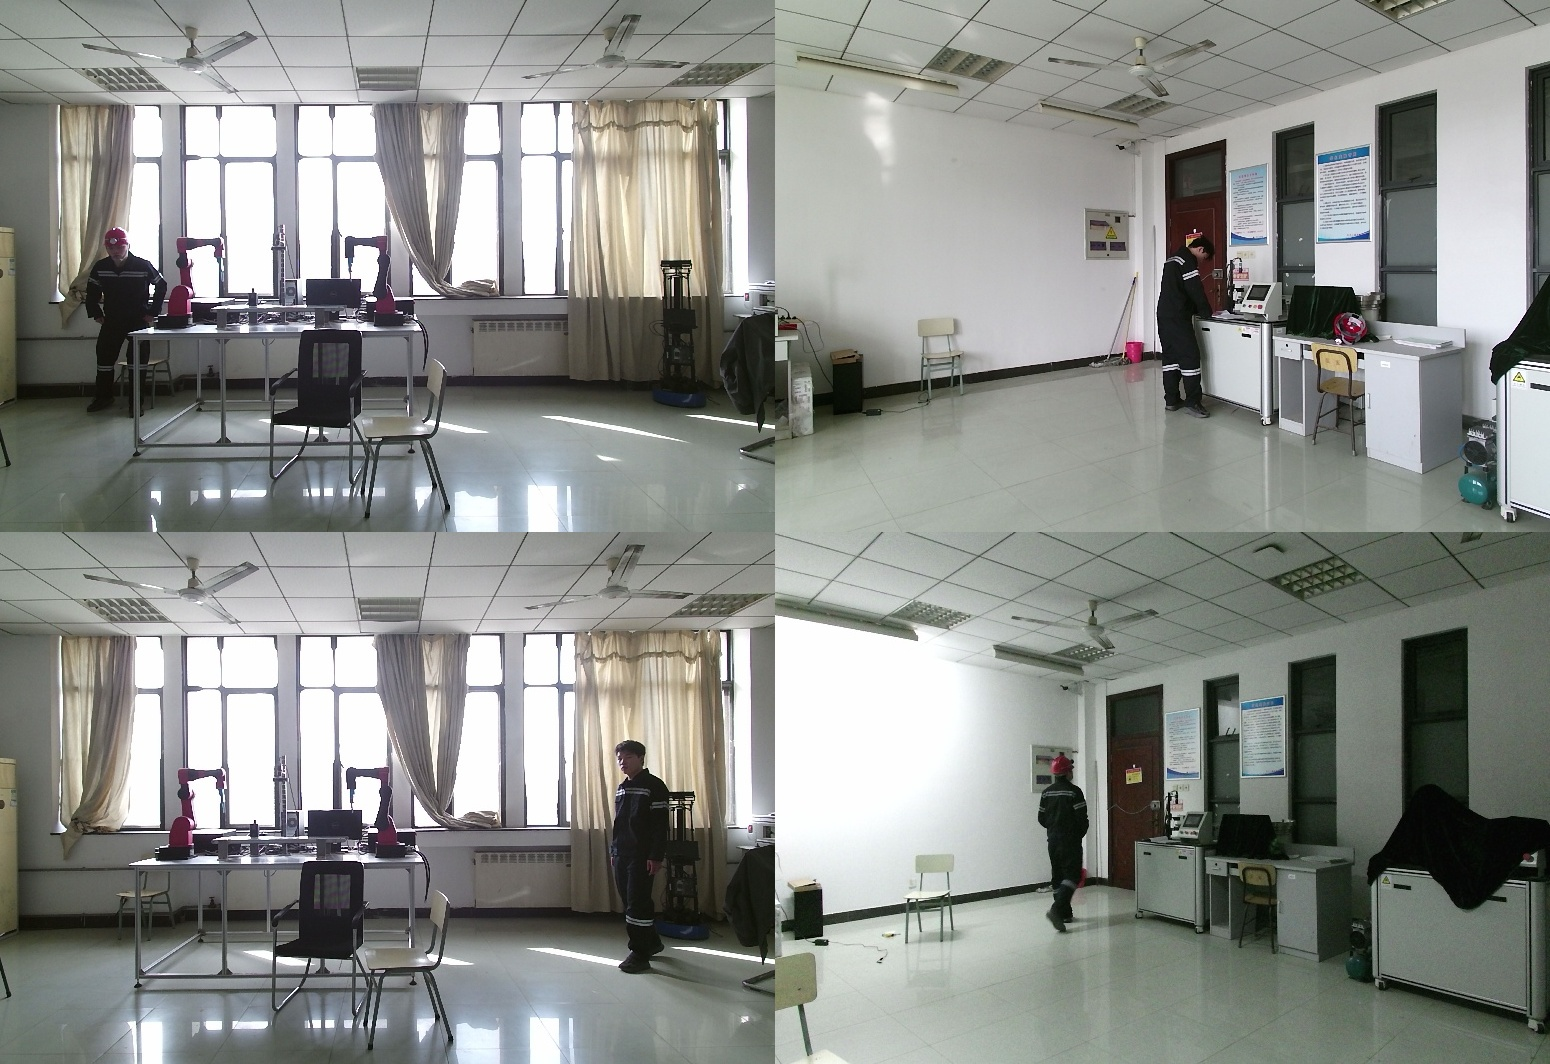person: (76, 229, 167, 415), (616, 742, 683, 977), (1019, 757, 1091, 952), (1159, 239, 1218, 420)
